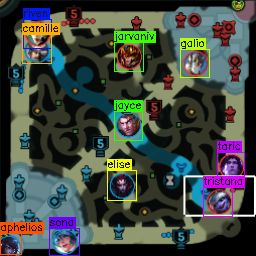aphelios: (1, 236, 20, 256)
camille: (24, 40, 48, 63)
elise: (110, 173, 133, 198)
galio: (183, 50, 207, 76)
jarvaniv: (116, 43, 141, 68)
jayce: (116, 113, 141, 136)
riven: (24, 21, 49, 45)
sona: (51, 227, 78, 254)
taric: (218, 154, 243, 178)
tristana: (206, 187, 230, 214)
